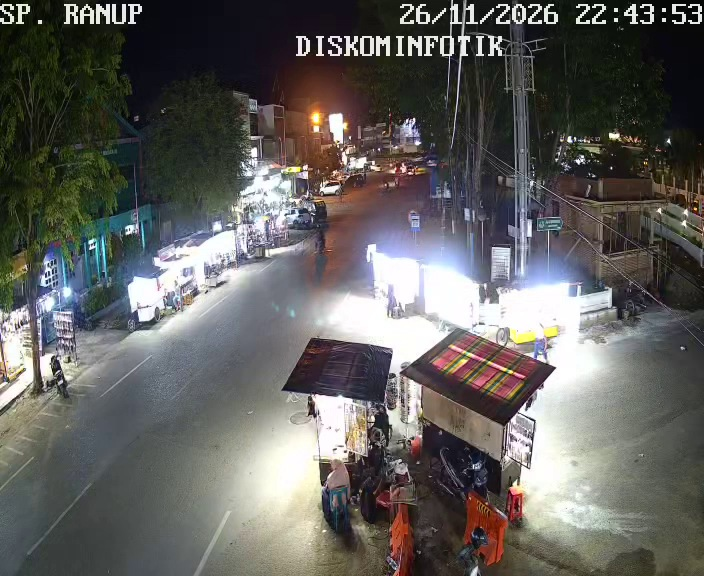Gerobak: (400, 328, 556, 497), (282, 337, 393, 492), (496, 279, 579, 347), (366, 243, 421, 314), (127, 262, 184, 329)
